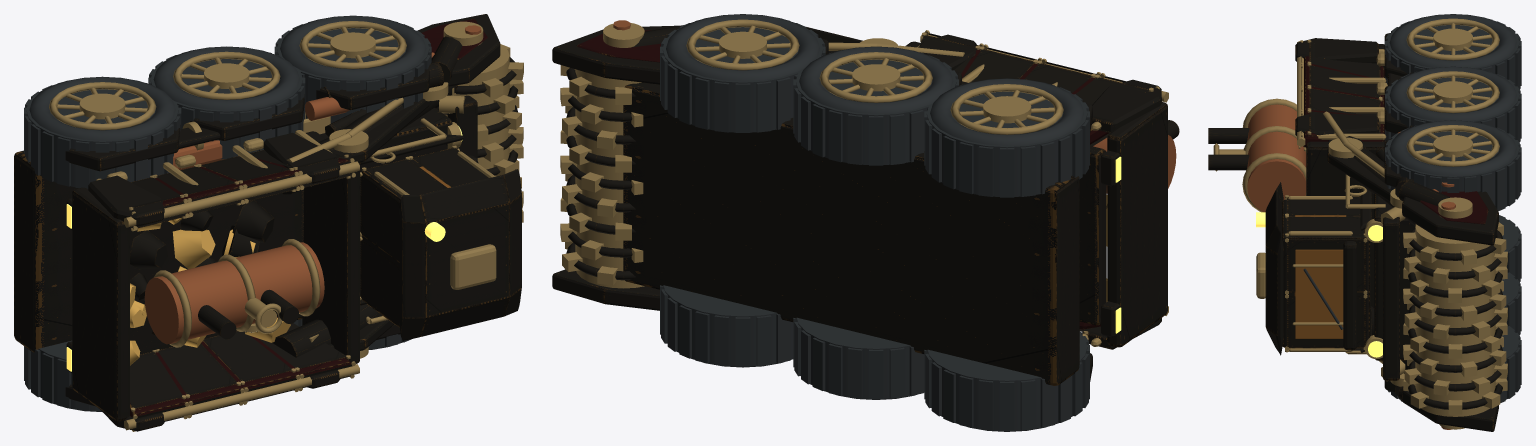
Rendered from harvester-high.glb.
3 views of the same model, side by side, from view 1: azimuth 30°, elevation 25°; view 2: azimuth 150°, elevation 25°; view 3: azimuth 270°, elevation 25° (orthographic). The views are drawn at different scales.
Visible parts, largest first — view 1: harvester-root / Riveted iron, harvester-root / Machined brass, harvester-root / Copper feed lines, Wheel 2 1 / Tire rubber, Wheel 1 1 / Tire rubber, Wheel 0 1 / Tire rubber, Mineral intake roller / Machined brass, harvester-root / Burgundy enamel, Wheel 2 1 / Machined brass, Wheel 0 1 / Machined brass, Wheel 1 1 / Machined brass, harvester-root / Ore gold / optics (+3 smaller); view 2: harvester-root / Riveted iron, Wheel 2 1 / Tire rubber, Wheel 0 1 / Tire rubber, Wheel 1 1 / Tire rubber, Mineral intake roller / Machined brass, Wheel 2 -1 / Tire rubber, Wheel 0 -1 / Tire rubber, Wheel 1 -1 / Tire rubber, Mineral intake roller / Riveted iron, Wheel 1 1 / Machined brass, Wheel 2 1 / Machined brass, Wheel 0 1 / Machined brass (+3 smaller); view 3: harvester-root / Riveted iron, Mineral intake roller / Machined brass, harvester-root / Machined brass, Wheel 0 1 / Tire rubber, Wheel 1 1 / Tire rubber, Wheel 2 1 / Tire rubber, Mineral intake roller / Riveted iron, harvester-root / Copper feed lines, harvester-root / Amber glazing, Wheel 2 1 / Machined brass, Wheel 1 1 / Machined brass, Wheel 0 1 / Machined brass (+5 smaller).
Part boxes in pixels (x1,y1,x2,y2): harvester-root / Riveted iron: (14,14,521,431); harvester-root / Machined brass: (96,21,496,431); harvester-root / Copper feed lines: (144,25,481,344); Wheel 2 1 / Tire rubber: (24,76,181,188); Wheel 1 1 / Tire rubber: (148,46,305,159); Wheel 0 1 / Tire rubber: (274,15,431,123); Mineral intake roller / Machined brass: (444,44,523,222); harvester-root / Burgundy enamel: (130,19,487,417); Wheel 2 1 / Machined brass: (49,82,156,130); Wheel 0 1 / Machined brass: (299,21,406,68); Wheel 1 1 / Machined brass: (173,51,280,99); harvester-root / Ore gold / optics: (130,217,290,365); harvester-root / Riveted iron: (552,25,1179,385); Wheel 2 1 / Tire rubber: (924,78,1089,197); Wheel 0 1 / Tire rubber: (660,14,825,132); Wheel 1 1 / Tire rubber: (793,46,958,165); Mineral intake roller / Machined brass: (560,65,644,288); Wheel 2 -1 / Tire rubber: (924,331,1089,431); Wheel 0 -1 / Tire rubber: (660,285,793,367); Wheel 1 -1 / Tire rubber: (793,317,924,399); Mineral intake roller / Riveted iron: (566,67,635,280); Wheel 1 1 / Machined brass: (819,52,932,102); Wheel 2 1 / Machined brass: (950,84,1063,134); Wheel 0 1 / Machined brass: (686,19,799,70); harvester-root / Riveted iron: (1208,33,1498,431); Mineral intake roller / Machined brass: (1403,222,1507,416); harvester-root / Machined brass: (1213,40,1472,429); Wheel 0 1 / Tire rubber: (1385,120,1521,211); Wheel 1 1 / Tire rubber: (1385,66,1521,142); Wheel 2 1 / Tire rubber: (1385,14,1521,89); Mineral intake roller / Riveted iron: (1408,228,1502,409); harvester-root / Copper feed lines: (1247,104,1455,429); harvester-root / Amber glazing: (1294,215,1346,338); Wheel 2 1 / Machined brass: (1406,18,1499,60); Wheel 1 1 / Machined brass: (1406,71,1499,113); Wheel 0 1 / Machined brass: (1406,125,1499,166).
Size of the model in its own units: 1.52 by 0.8489 by 0.979.
9 materials, 2 textured.
